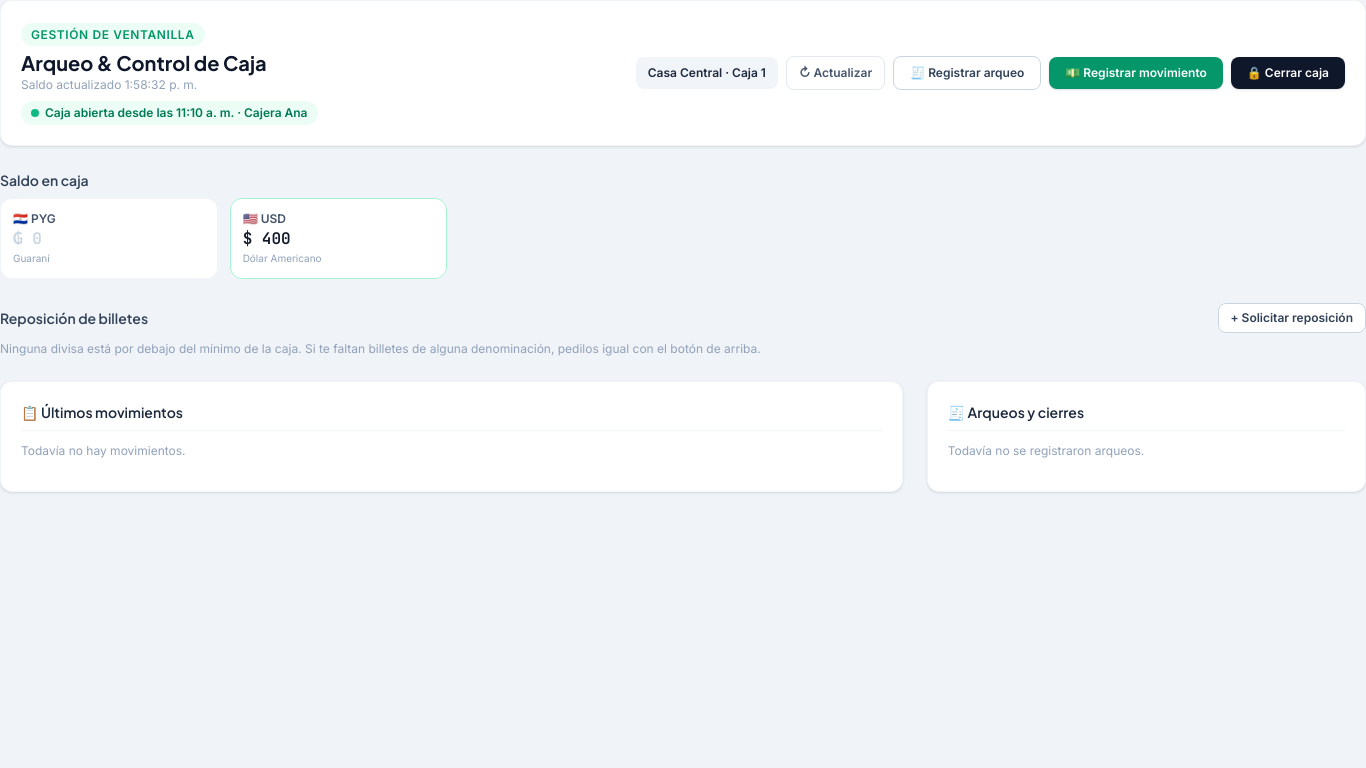
it: CashCountView · saldo por divisa (PI-44 / PI-78) › registra un ingreso por monto y actualiza el saldo en pantalla
expect the text "$ 400" is shown: met, box [243,228,291,249]
Step 1. Click the button "💵 Registrar movimiento" → {"x": 1136, "y": 73}, box [1049,57,1223,89]
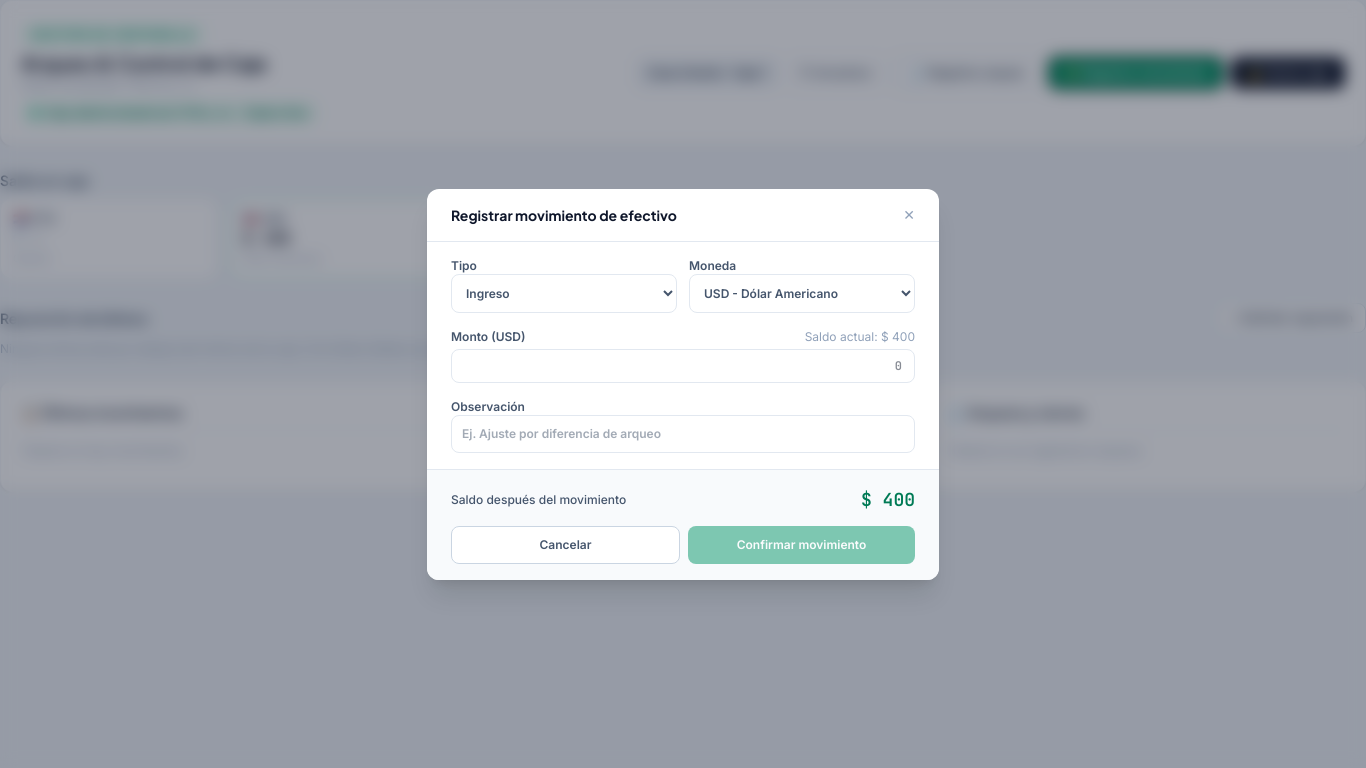
Step 2. Type "200" into the number field labelled "Monto (USD)" → {"x": 683, "y": 366}, box [451,348,915,382]
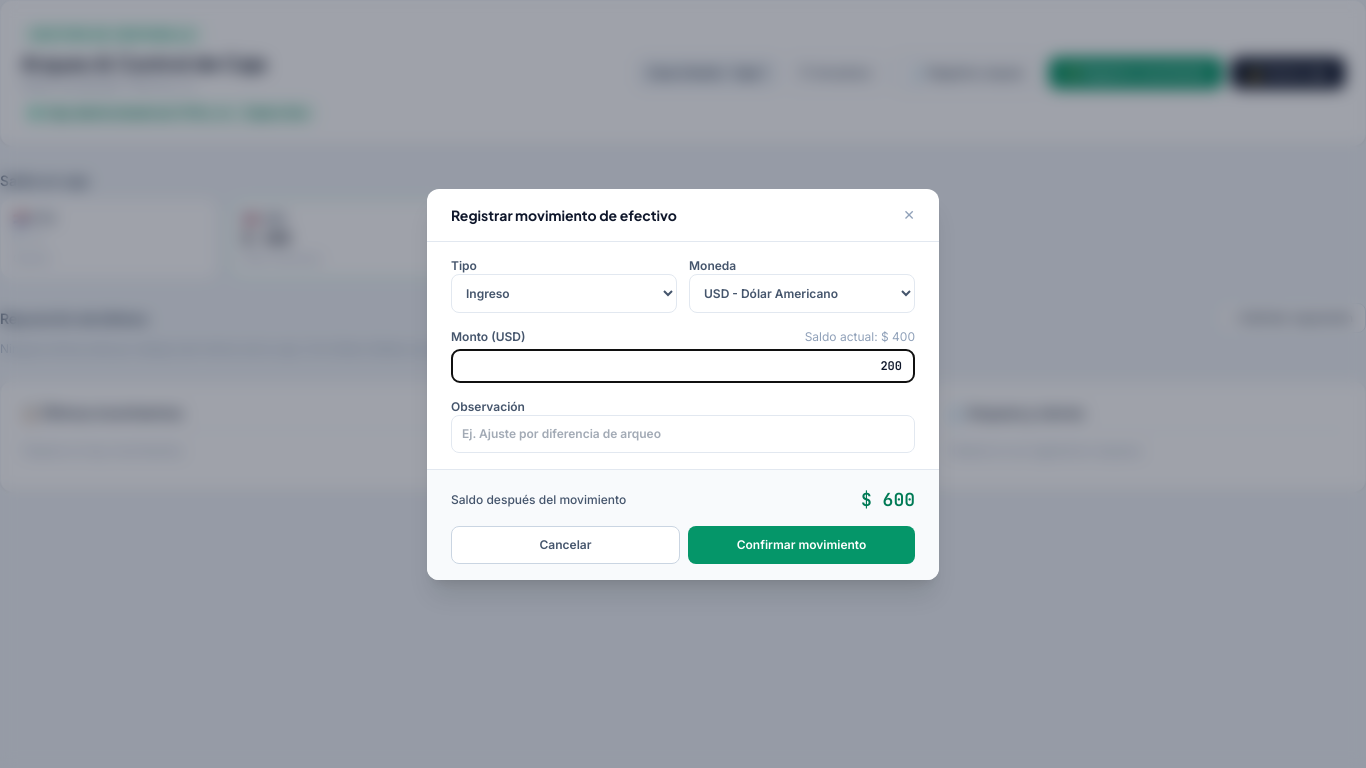
expect the text with test id "saldo-despues" reads "$ 600": met, box [861,488,915,510]
Step 3. Type "Ajuste" into the field with placeholder "Ej. Ajuste por diferencia de arqueo" → {"x": 683, "y": 434}, box [451,414,915,452]
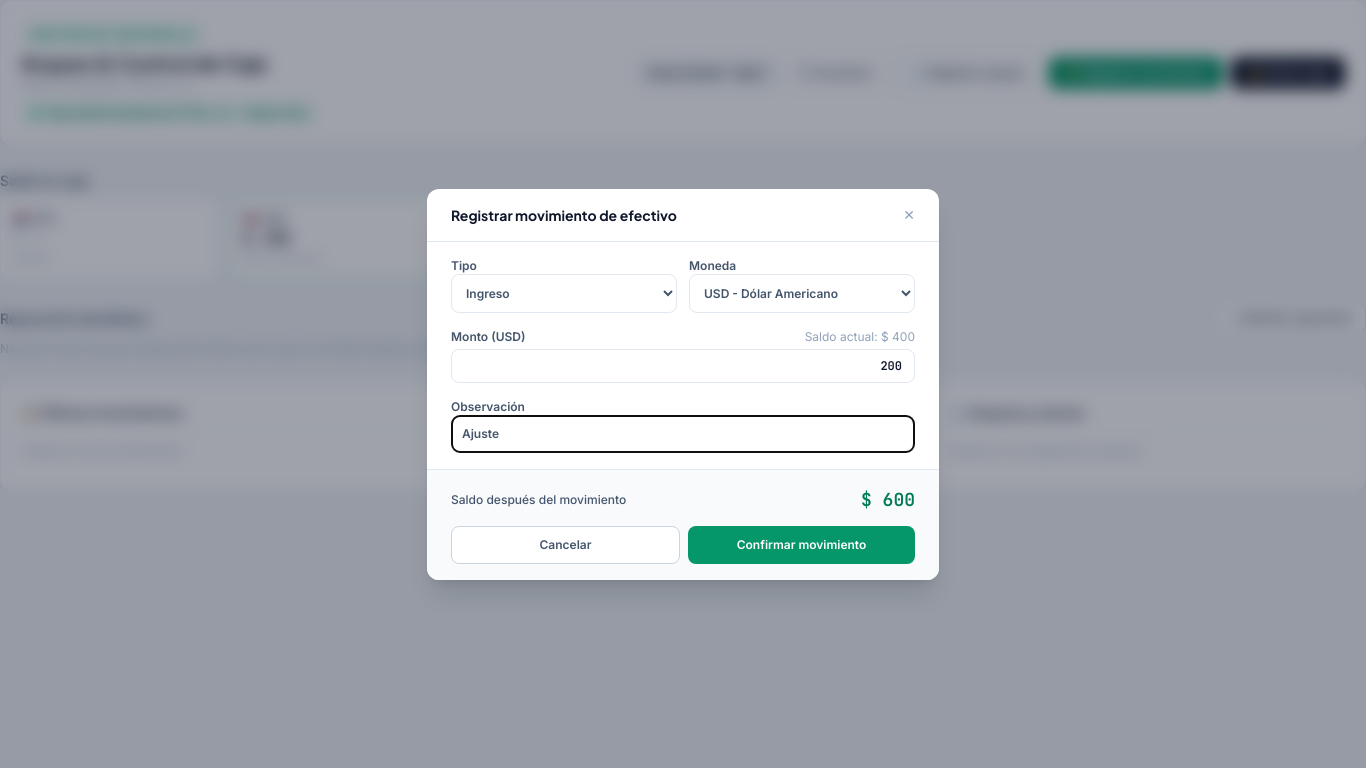
Step 4. Click the button "Confirmar movimiento" → {"x": 802, "y": 544}, box [688,526,915,564]
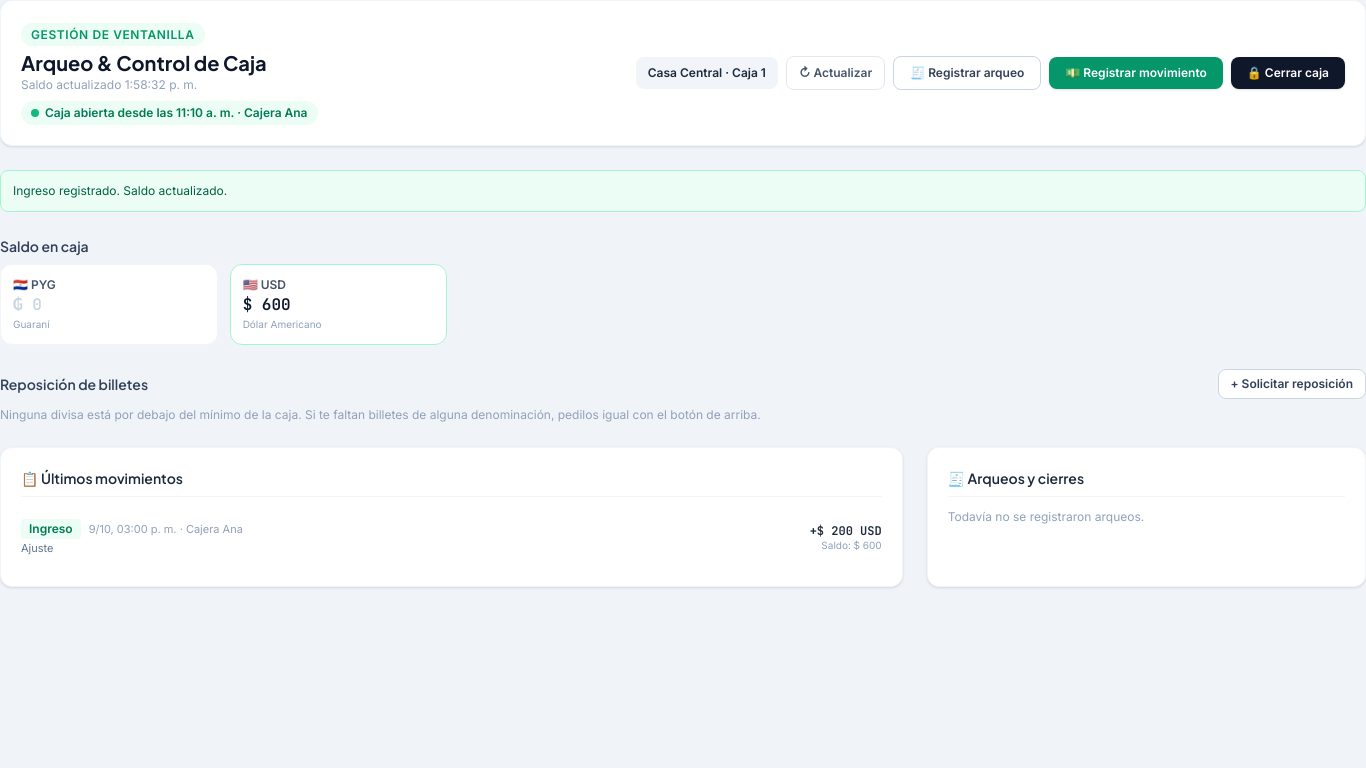
expect the message shows "Ingreso registrado": met, box [13,183,227,198]
expect the text with test id "total-USD" reads "$ 600": met, box [243,294,291,315]
